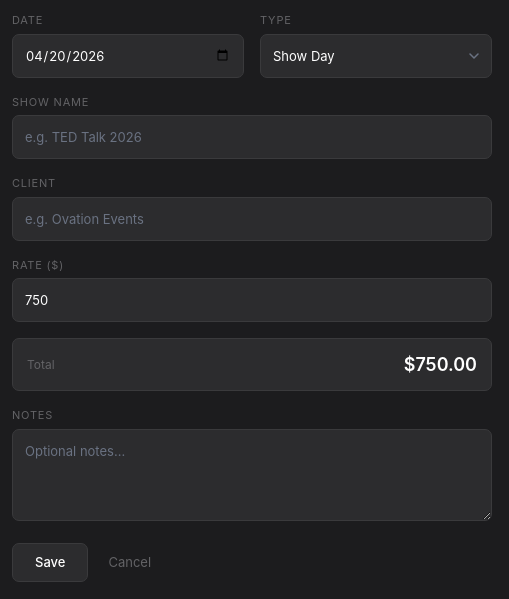
Test: auto-fills rate from defaultRates when type changes
Expected: the number field labelled "Rate ($)" holds "750", [12, 278, 492, 322]
Select "Travel Day" in the dropdown labelled "Type": point(376, 56) [260, 34, 492, 78]
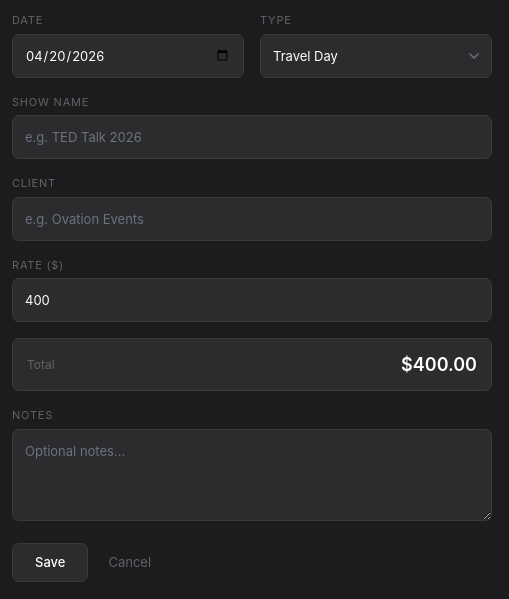
Expected: the number field labelled "Rate ($)" holds "400", [12, 278, 492, 322]
